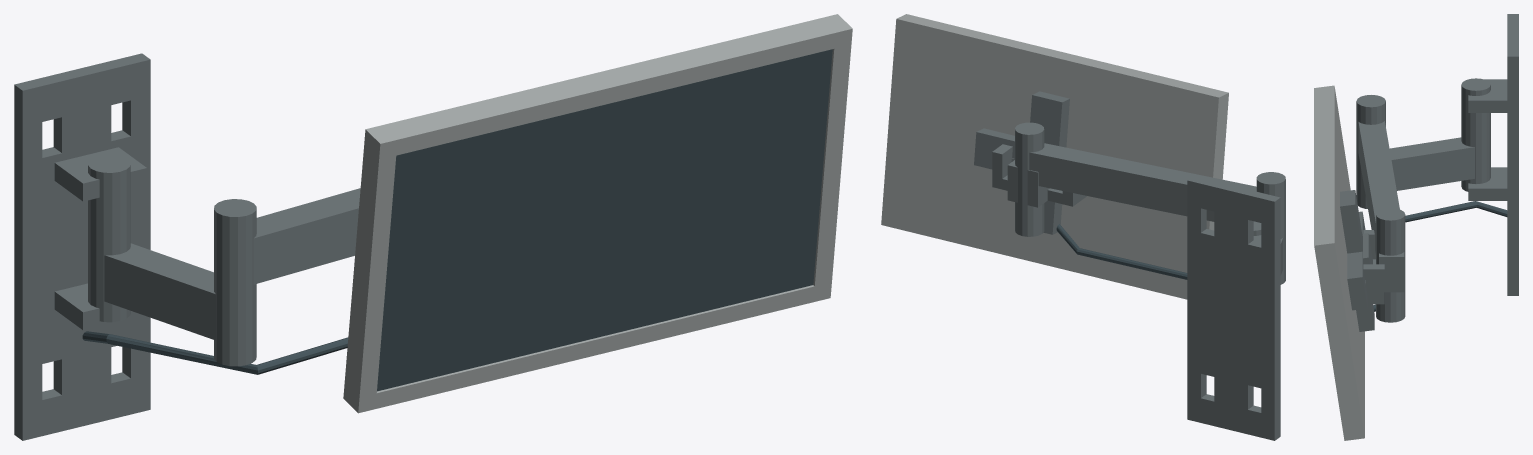
The picture shows the model from 3 angles, left to right: view 1: azimuth 30°, elevation 25°; view 2: azimuth 150°, elevation 25°; view 3: azimuth 270°, elevation 25°; orthographic projection. The views are drawn at different scales.
Visible parts, largest first — view 1: WholeBlankInsetScreen, WholeRecessedWideDisplayHousing, WholeFourSlotWallPlate, WholeFirstHorizontalSwingArm, WholeSecondHorizontalSwingArm, ElbowWholeVerticalPivot, WallWholeVerticalPivot, WholeFixedRearCableRoute, WholeWallPivotFork_0.64, WholeWallPivotFork_0.39; view 2: WholeRecessedWideDisplayHousing, WholeFourSlotWallPlate, WholeSecondHorizontalSwingArm, WholeRearCrossDisplayMount, TerminalWholeVerticalPivot, WholeTerminalTiltYoke, ElbowWholeVerticalPivot, WholeFixedRearCableRoute, WholeYokeRearRoot; view 3: WholeRecessedWideDisplayHousing, WholeFirstHorizontalSwingArm, WholeFourSlotWallPlate, WholeSecondHorizontalSwingArm, WholeRearCrossDisplayMount, WallWholeVerticalPivot, TerminalWholeVerticalPivot, ElbowWholeVerticalPivot, WholeWallPivotFork_0.64, WholeWallPivotFork_0.39, WholeTerminalTiltYoke, WholeYokeRearRoot (+2 smaller).
Boxes of the visible parts, x1,y1,x2,y2 form: WholeBlankInsetScreen: (377,49,832,391); WholeRecessedWideDisplayHousing: (343,14,852,413); WholeFourSlotWallPlate: (14,53,150,440); WholeFirstHorizontalSwingArm: (104,243,215,340); WholeSecondHorizontalSwingArm: (253,188,360,284); ElbowWholeVerticalPivot: (214,199,256,366); WallWholeVerticalPivot: (88,155,130,322); WholeFixedRearCableRoute: (82,331,348,374); WholeWallPivotFork_0.64: (54,147,146,201); WholeWallPivotFork_0.39: (54,283,143,330); WholeRecessedWideDisplayHousing: (881,14,1228,299); WholeFourSlotWallPlate: (1187,176,1280,440); WholeSecondHorizontalSwingArm: (1029,143,1256,221); WholeRearCrossDisplayMount: (974,91,1069,234); TerminalWholeVerticalPivot: (1015,122,1044,236); WholeTerminalTiltYoke: (992,144,1086,206); ElbowWholeVerticalPivot: (1256,172,1285,284); WholeFixedRearCableRoute: (1056,224,1187,279); WholeYokeRearRoot: (1007,160,1049,207); WholeRecessedWideDisplayHousing: (1314,85,1364,440); WholeFirstHorizontalSwingArm: (1389,137,1474,190); WholeFourSlotWallPlate: (1507,14,1518,295); WholeSecondHorizontalSwingArm: (1358,121,1399,254); WholeRearCrossDisplayMount: (1340,190,1374,331); WallWholeVerticalPivot: (1461,78,1490,191); TerminalWholeVerticalPivot: (1376,208,1405,322); ElbowWholeVerticalPivot: (1356,95,1385,208); WholeWallPivotFork_0.64: (1468,79,1507,112); WholeWallPivotFork_0.39: (1468,167,1507,200); WholeTerminalTiltYoke: (1363,230,1384,304); WholeYokeRearRoot: (1379,252,1404,292).
Bounding box in the file's own units: 1.4 × 0.6821 × 0.5268.
